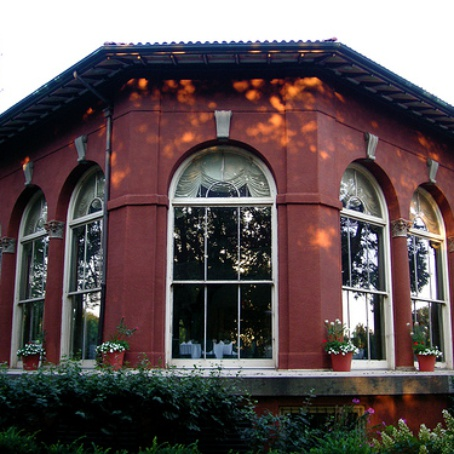building: (2, 51, 450, 392)
sky: (1, 1, 445, 63)
